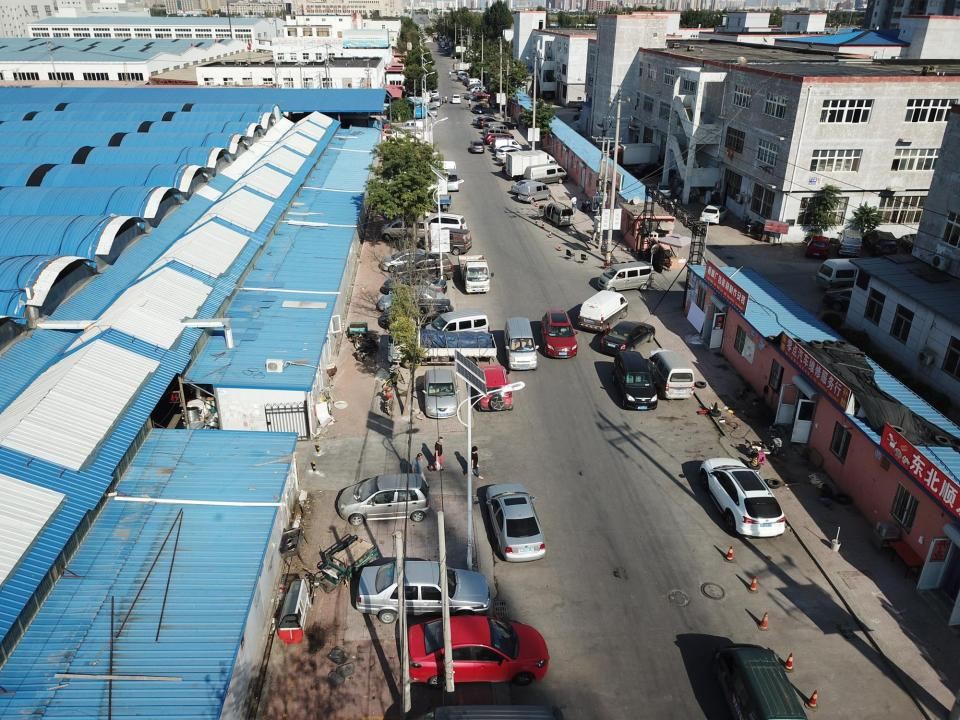car: (406, 615, 552, 684), (709, 642, 815, 718), (701, 455, 788, 541), (357, 561, 491, 612), (483, 480, 545, 562), (336, 472, 431, 520), (412, 702, 567, 719), (539, 307, 577, 361), (423, 368, 456, 420), (476, 364, 513, 410), (603, 320, 656, 352), (816, 257, 862, 283), (435, 228, 472, 252), (866, 228, 897, 255), (384, 219, 426, 238), (426, 212, 466, 231), (527, 165, 566, 184), (838, 228, 861, 259), (804, 234, 831, 256), (829, 288, 859, 307), (474, 116, 508, 132), (702, 204, 726, 225), (442, 165, 458, 194), (494, 138, 526, 150), (655, 182, 674, 202), (485, 131, 516, 142), (903, 232, 919, 251), (470, 140, 484, 152), (450, 93, 462, 106), (472, 103, 485, 114), (429, 104, 437, 118), (475, 91, 491, 98), (433, 96, 442, 108), (464, 93, 475, 99), (430, 89, 438, 97), (471, 88, 487, 92)
truck: (504, 148, 558, 175), (611, 141, 661, 169), (457, 253, 490, 293)
van: (614, 350, 656, 411), (653, 350, 695, 402), (384, 249, 454, 278), (580, 289, 627, 331), (598, 260, 654, 291), (379, 298, 449, 322), (504, 316, 535, 368), (426, 308, 491, 332), (380, 270, 445, 292), (375, 287, 444, 307), (545, 202, 571, 225), (520, 183, 553, 201)
